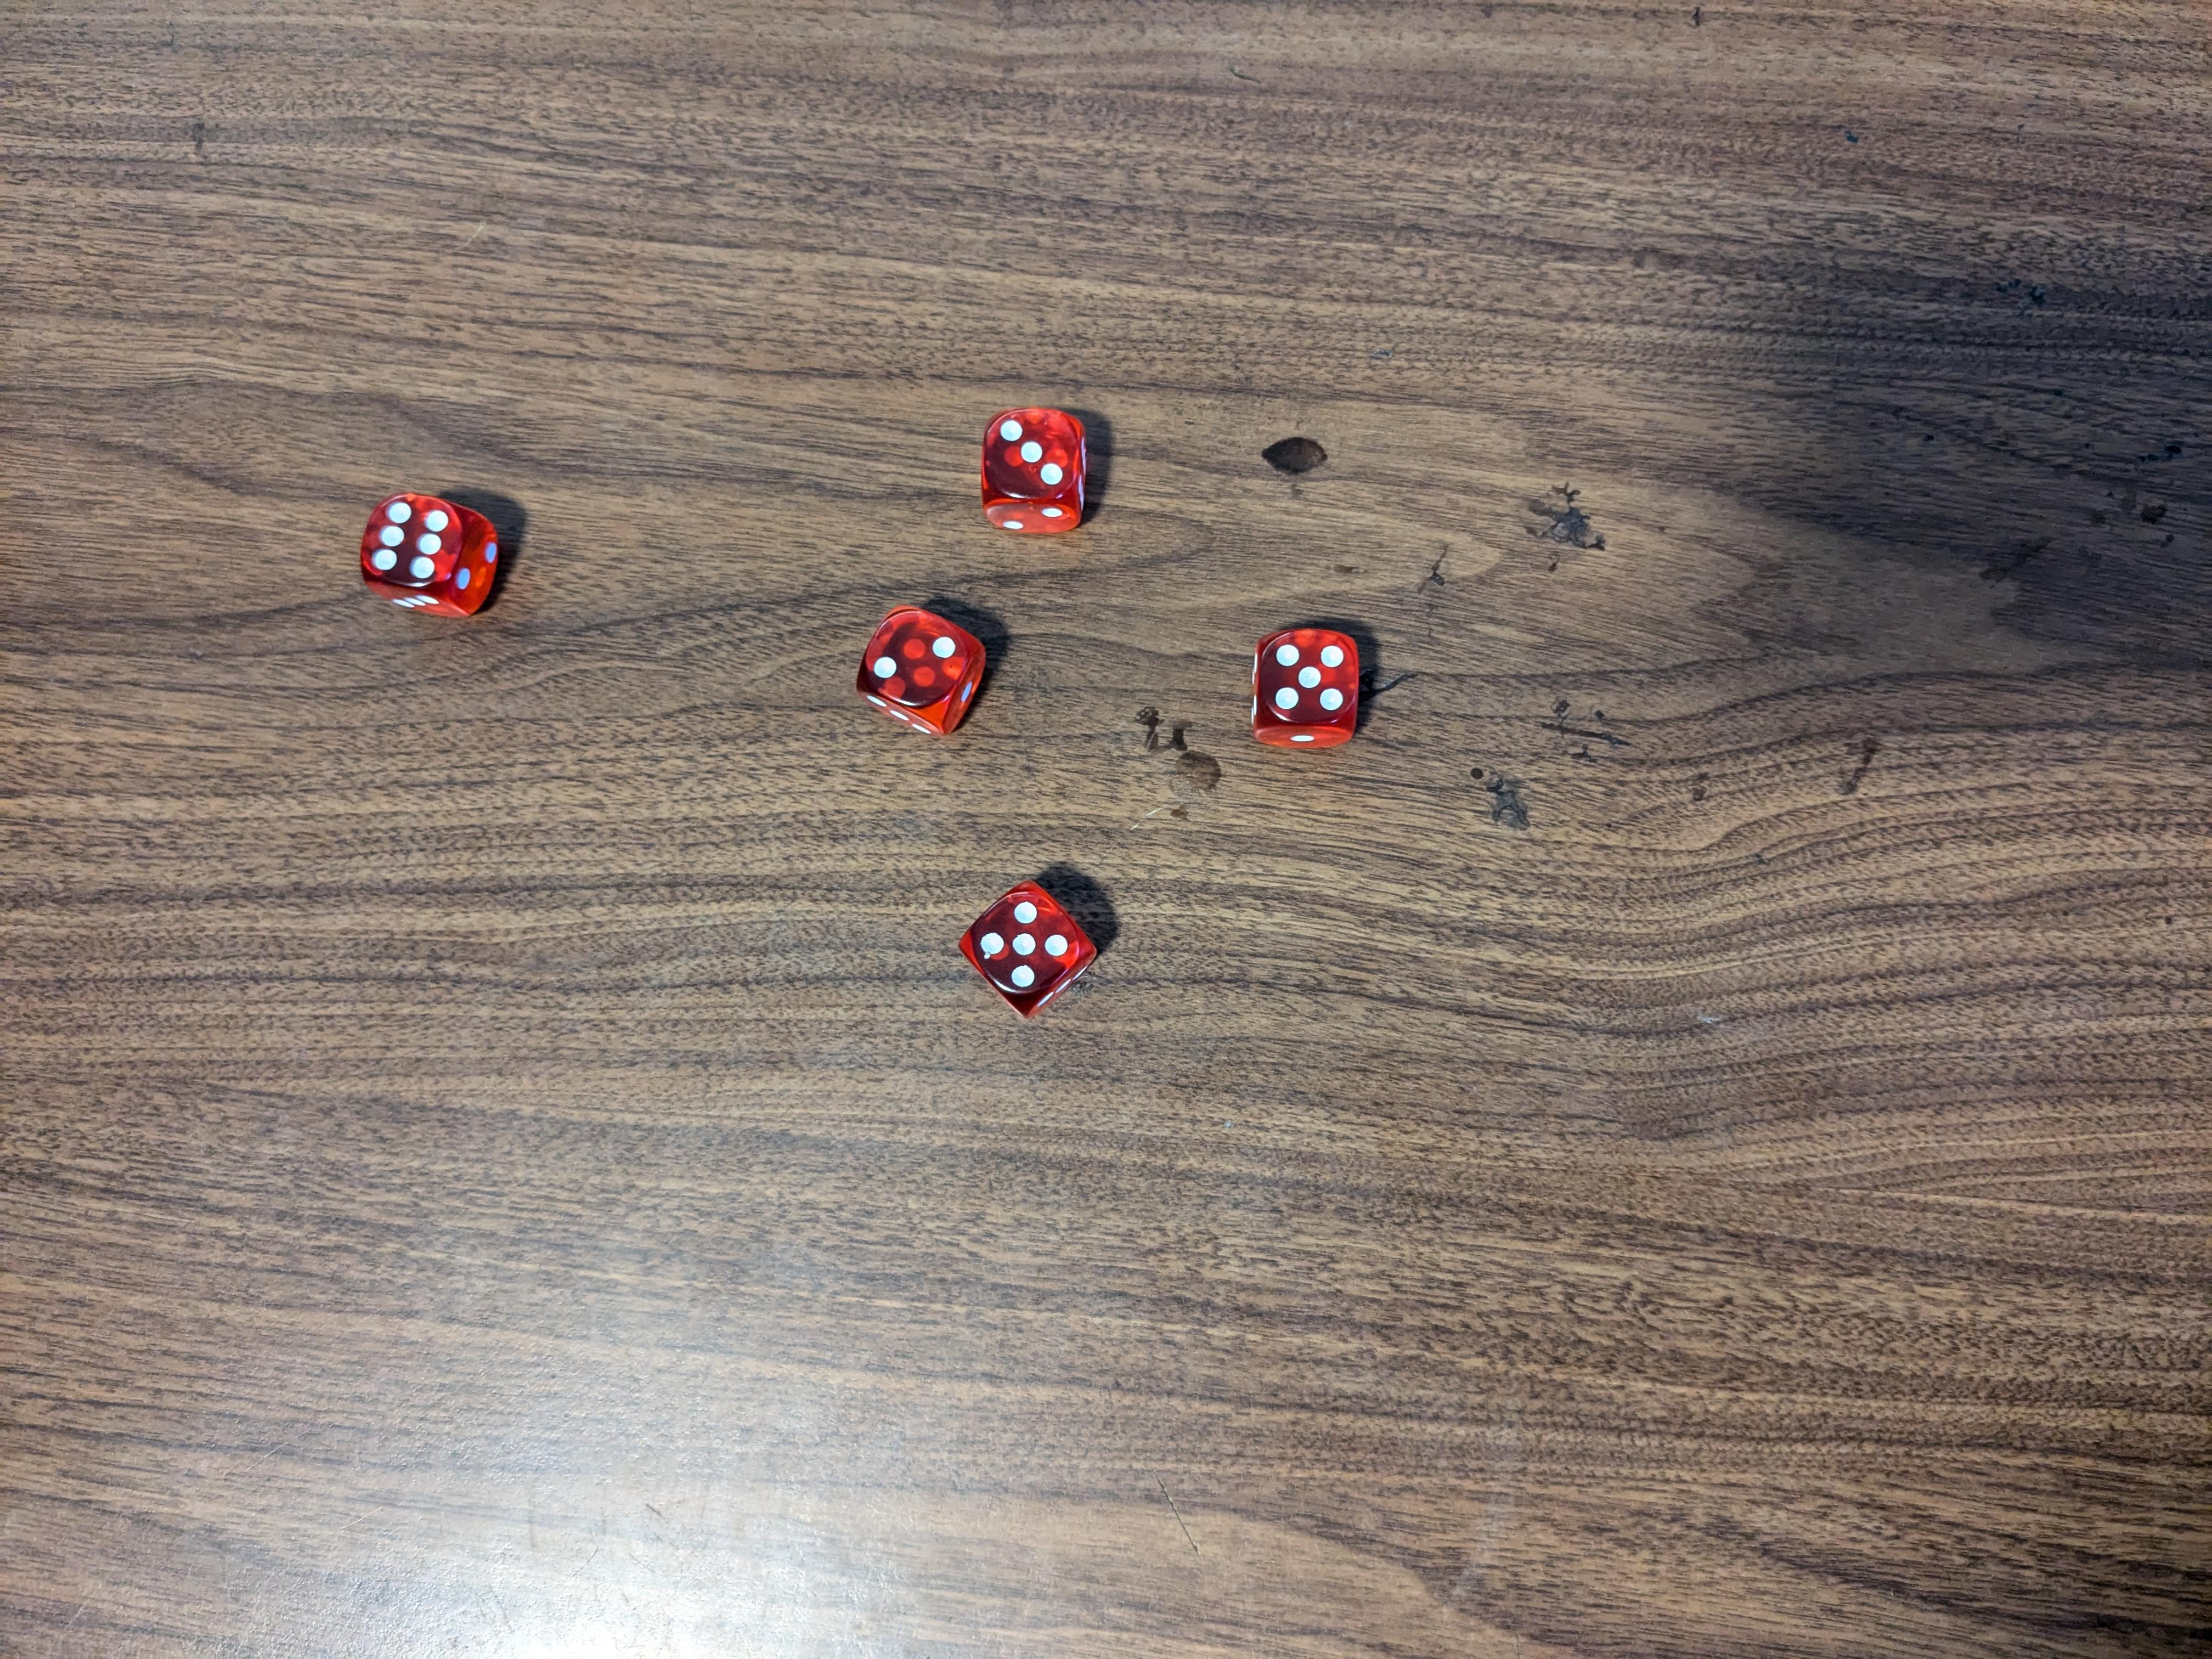five: (958, 878, 1103, 1016), (1251, 624, 1371, 753)
six: (359, 490, 503, 617)
three: (979, 404, 1101, 540)
two: (857, 596, 988, 741)
